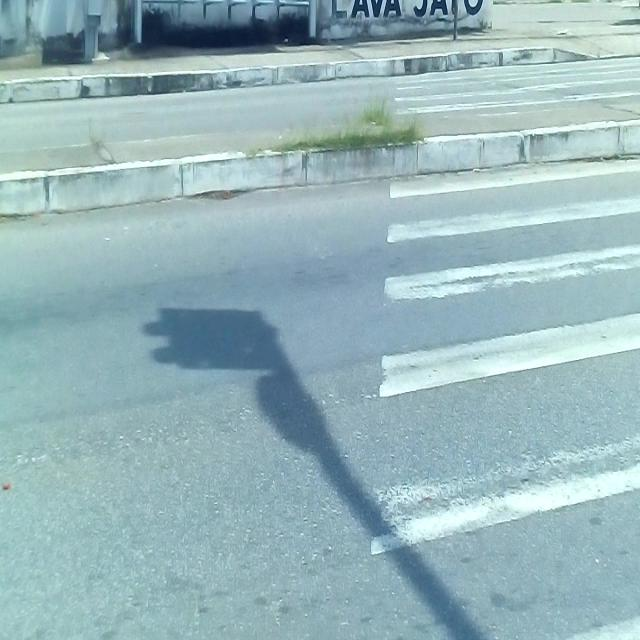crosswalk: (362, 146, 640, 640), (391, 55, 640, 123)
